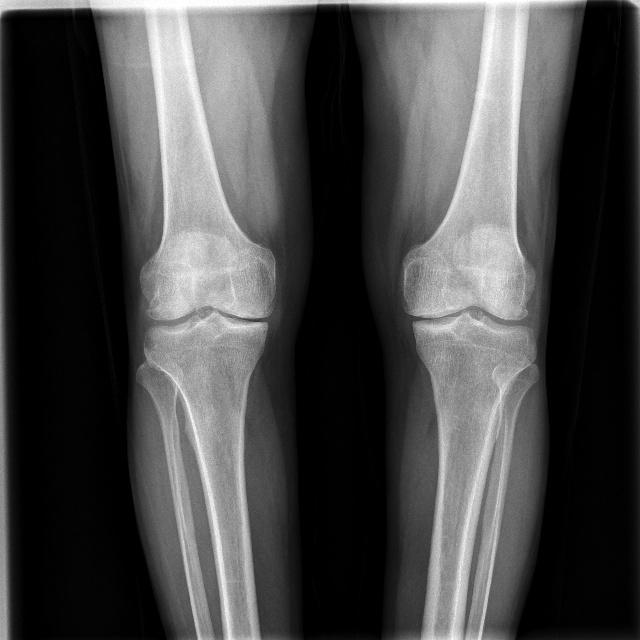Knee: (135, 252, 278, 375), (398, 250, 536, 374)
